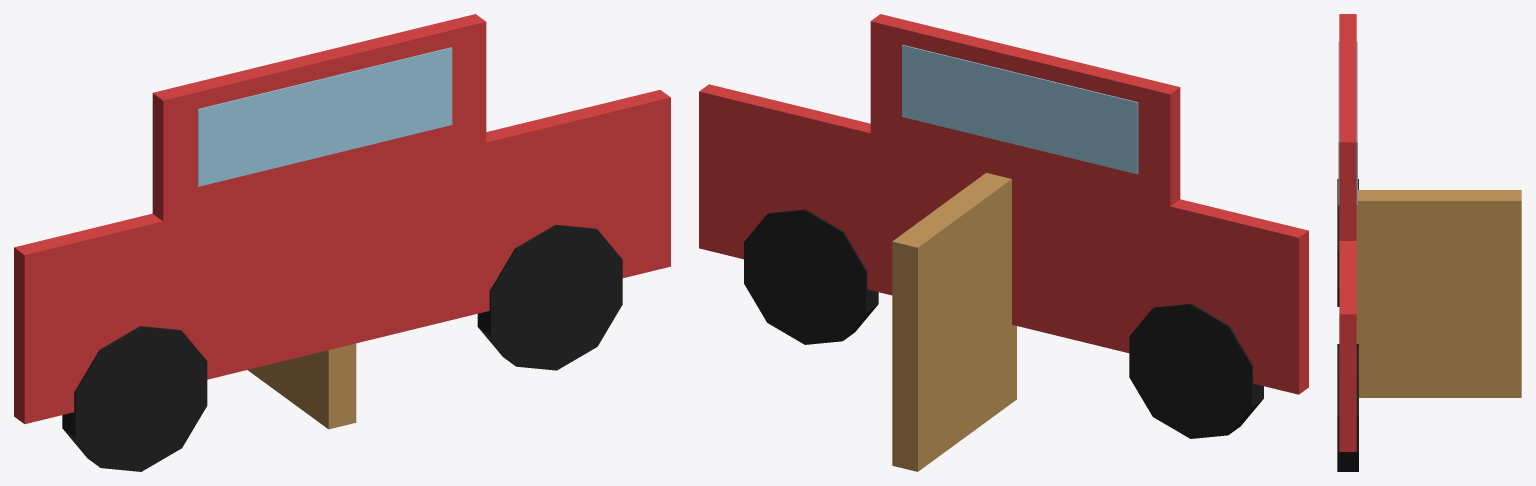
File: super_prize_car.glb
3 views of the same model, side by side, from view 1: azimuth 30°, elevation 25°; view 2: azimuth 150°, elevation 25°; view 3: azimuth 270°, elevation 25° (orthographic). The views are drawn at different scales.
Parts seen in each view (by area): view 1: body_car_red_paint, wheels_car_wheel (×2), cabin_car_red_paint, window_car_window, stand_car_cardboard; view 2: body_car_red_paint, stand_car_cardboard, wheels_car_wheel (×2), cabin_car_red_paint, window_car_window; view 3: stand_car_cardboard, cabin_car_red_paint, body_car_red_paint, wheels_car_wheel (×2), window_car_window.
Part boxes in pixels (x1=…): body_car_red_paint: x1=14, y1=90, x2=670, y2=423; wheels_car_wheel (×2): x1=62, y1=224, x2=622, y2=471; cabin_car_red_paint: x1=152, y1=14, x2=486, y2=221; window_car_window: x1=197, y1=47, x2=452, y2=186; stand_car_cardboard: x1=248, y1=343, x2=356, y2=429; body_car_red_paint: x1=699, y1=84, x2=1308, y2=394; stand_car_cardboard: x1=892, y1=172, x2=1016, y2=471; wheels_car_wheel (×2): x1=744, y1=209, x2=1263, y2=438; cabin_car_red_paint: x1=870, y1=14, x2=1180, y2=206; window_car_window: x1=902, y1=45, x2=1138, y2=174; stand_car_cardboard: x1=1356, y1=190, x2=1521, y2=397; cabin_car_red_paint: x1=1339, y1=14, x2=1356, y2=240; body_car_red_paint: x1=1339, y1=241, x2=1356, y2=451; wheels_car_wheel (×2): x1=1337, y1=179, x2=1358, y2=471; window_car_window: x1=1338, y1=41, x2=1357, y2=205.
Bounding box in the file's own units: 1.4 × 0.775 × 0.425.
